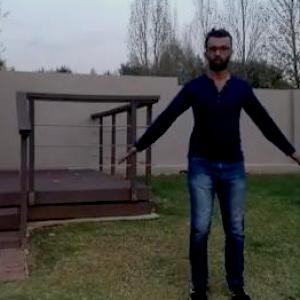land: (112, 27, 299, 299)
